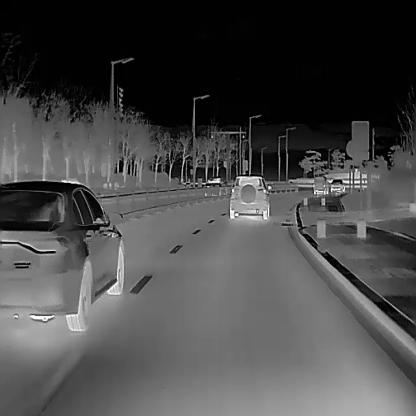car: (0, 180, 124, 330), (229, 174, 271, 218), (201, 175, 227, 195), (329, 178, 346, 192)
truck: (312, 176, 328, 193)
